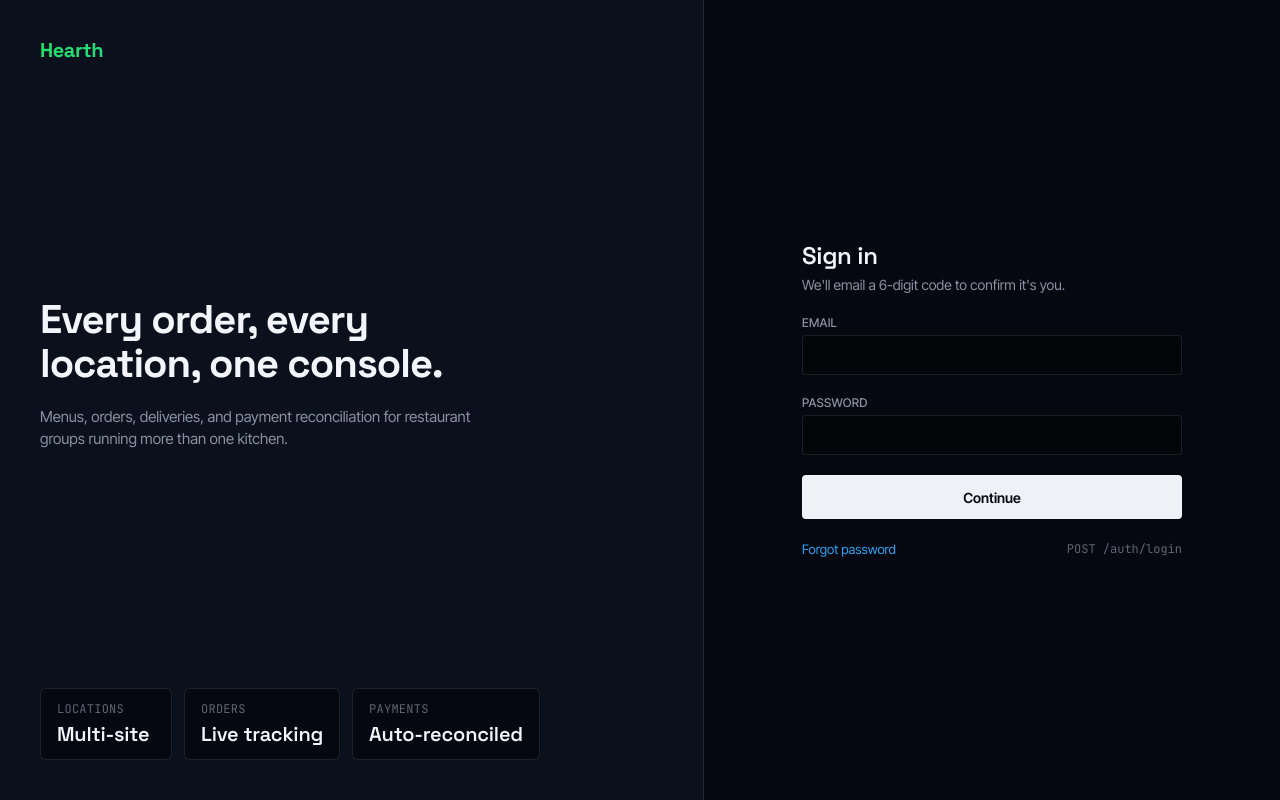
Test: Login page › shows a friendly error and does not navigate on invalid credentials
The width and height of the screenshot is (1280, 800).
Type "rosa@northsidehospitality.com" into the field labelled "Email" at (992, 355), box x1=802 y1=335 x2=1182 y2=375
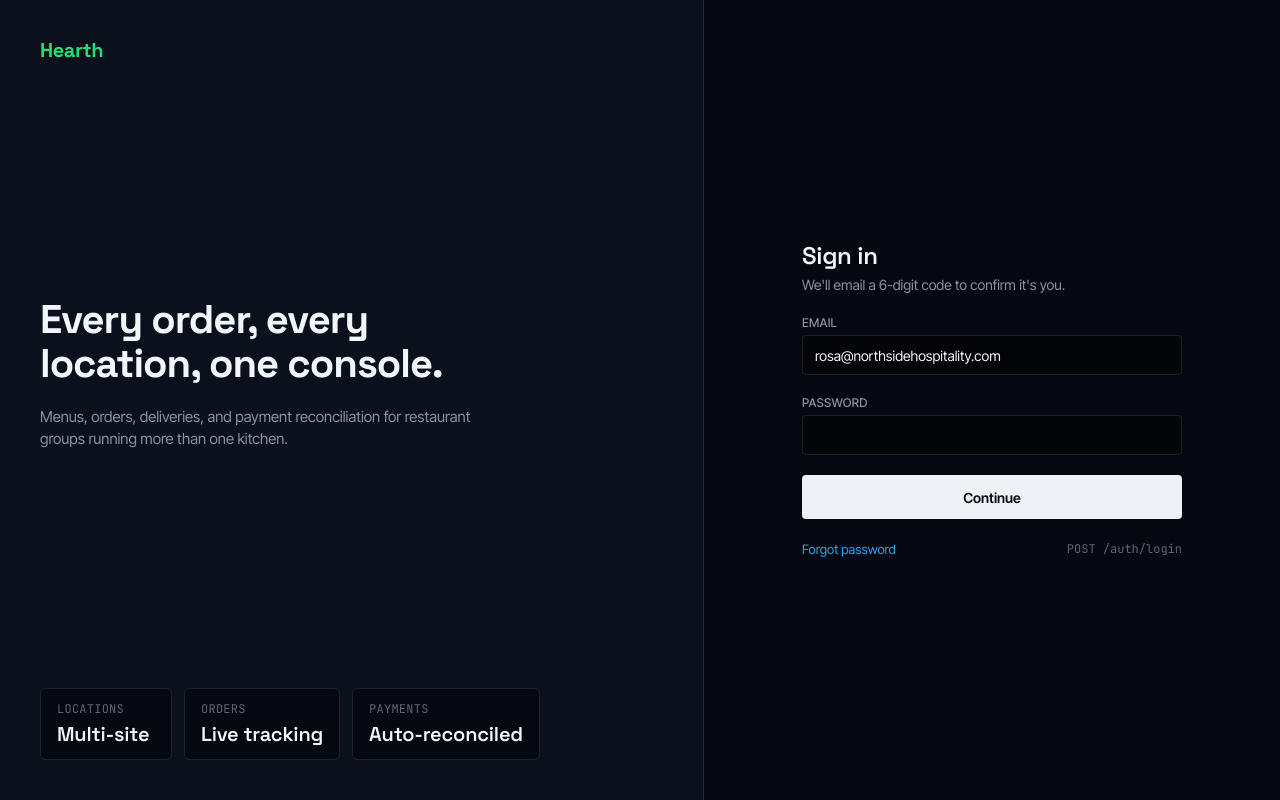
Type "wrong" into the password field labelled "Password" at (992, 435), box x1=802 y1=415 x2=1182 y2=455
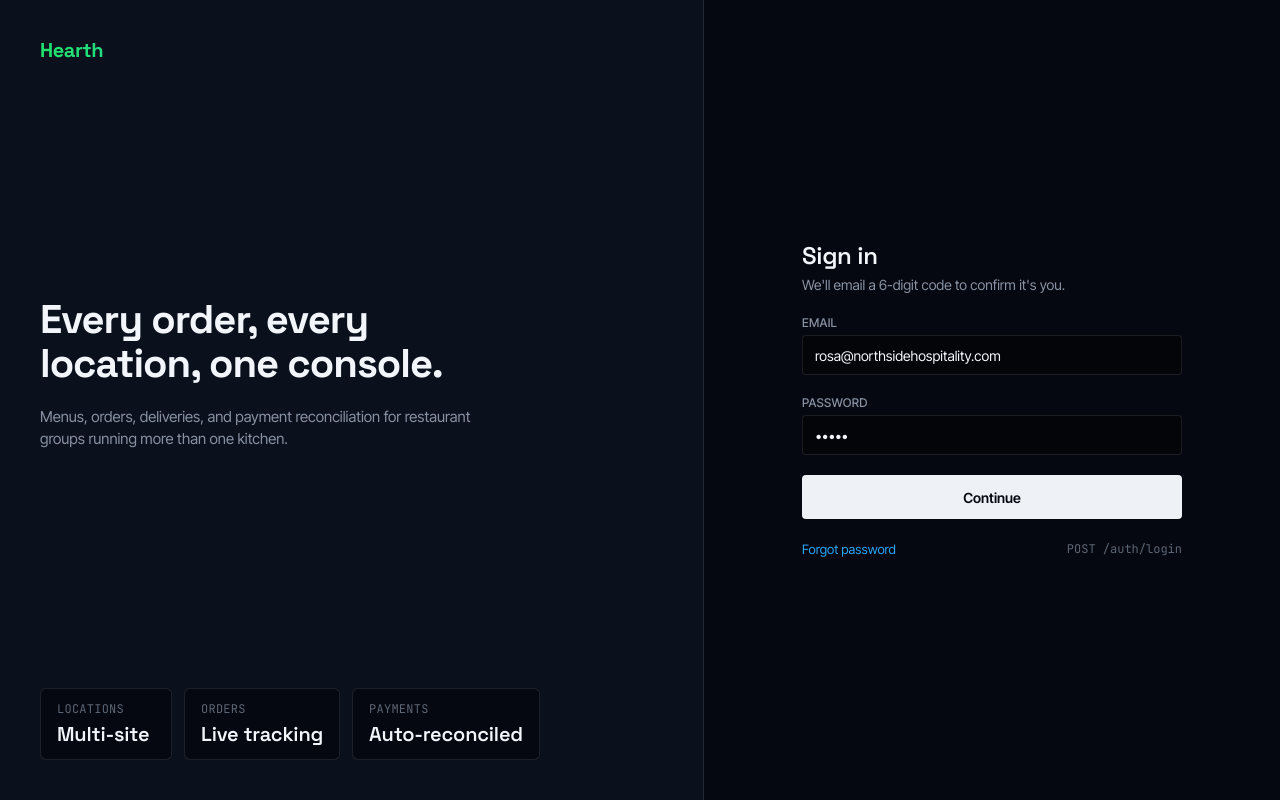
Click the button "Continue" at (992, 497), box x1=802 y1=475 x2=1182 y2=519
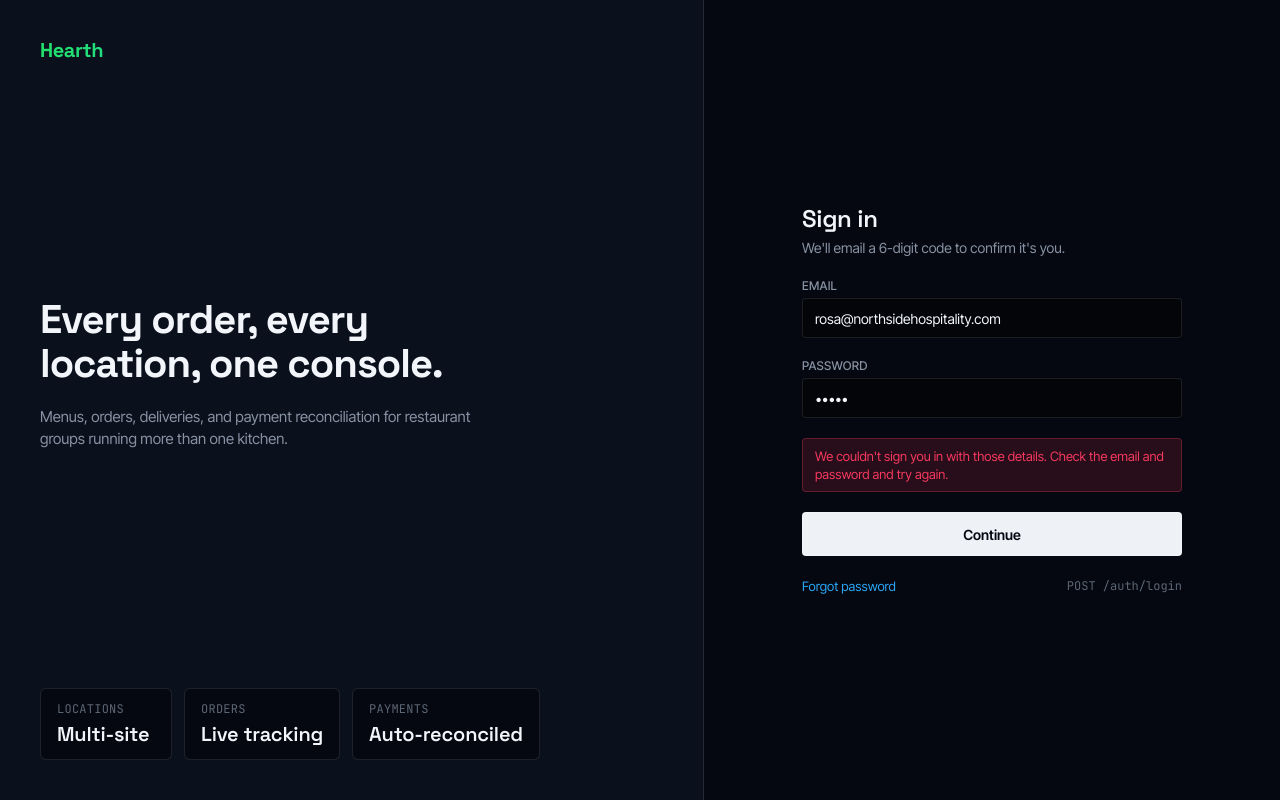
Expected: the text "We couldn't sign you in with those details" is shown, x1=815 y1=448 x2=1164 y2=482
